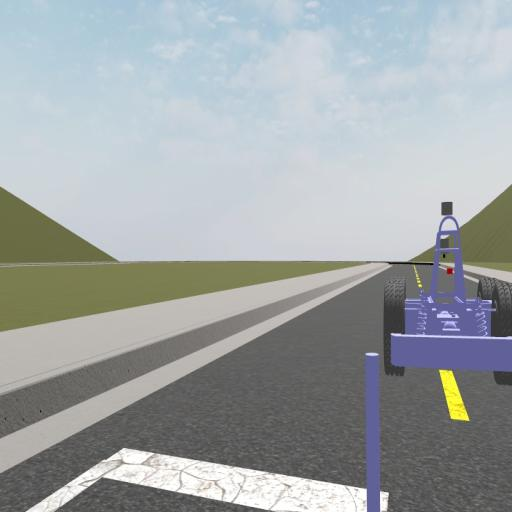ERP-42: (383, 201, 511, 385)
